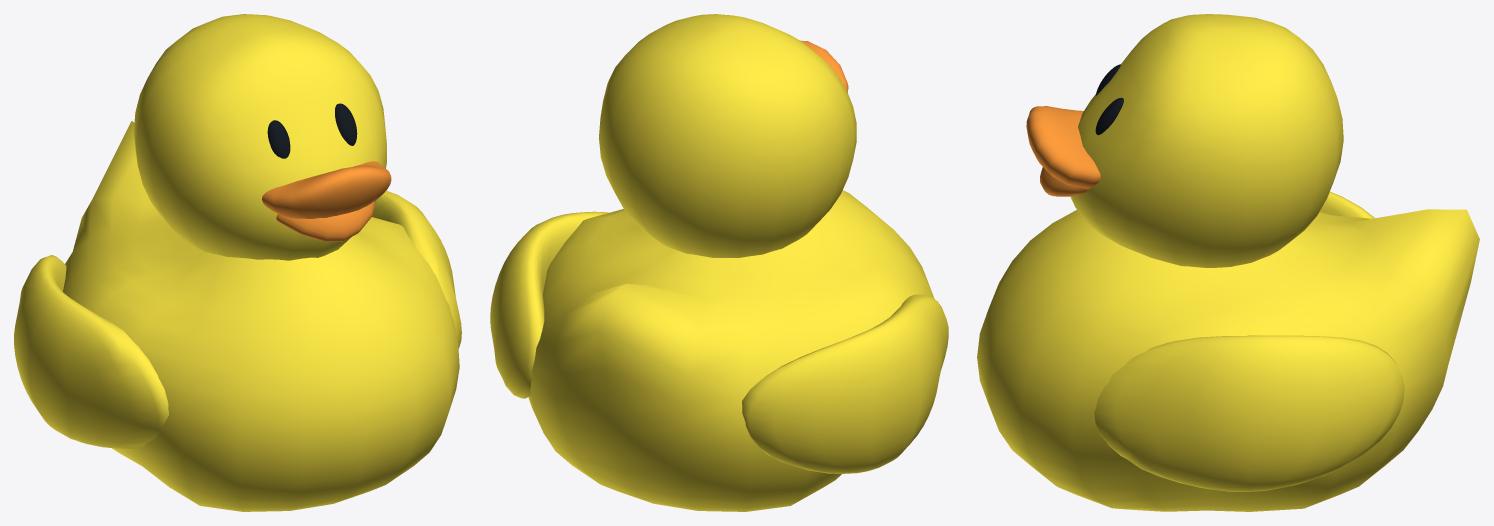
File: duck_anim1.gltf
3 views of the same model, side by side, from view 1: azimuth 30°, elevation 25°; view 2: azimuth 150°, elevation 25°; view 3: azimuth 270°, elevation 25° (orthographic). The views are drawn at different scales.
Visible parts, largest first — view 1: Duck_Normal_Combined.001; view 2: Duck_Normal_Combined.001; view 3: Duck_Normal_Combined.001.
Part boxes in pixels (x1=…): Duck_Normal_Combined.001: x1=14, y1=14, x2=461, y2=511; Duck_Normal_Combined.001: x1=490, y1=14, x2=948, y2=511; Duck_Normal_Combined.001: x1=977, y1=14, x2=1479, y2=511.
Bounding box in the file's own units: 0.0598 × 0.0604 × 0.0612.
1 material, 1 textured.
